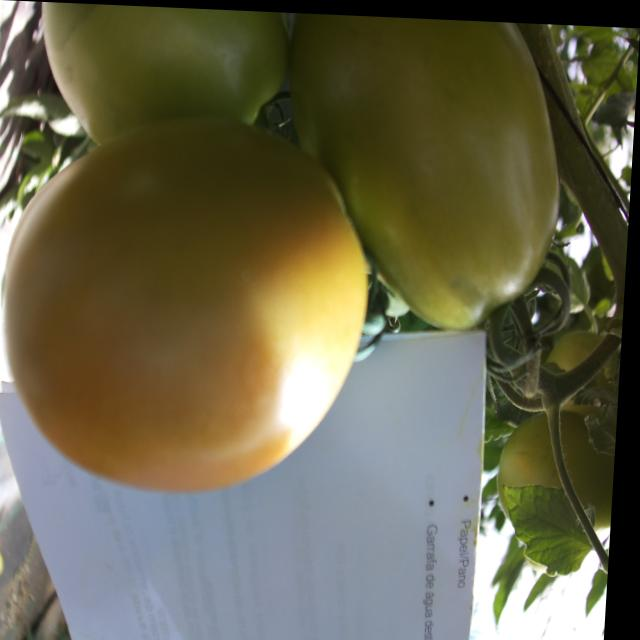sari: (0, 97, 397, 494)
